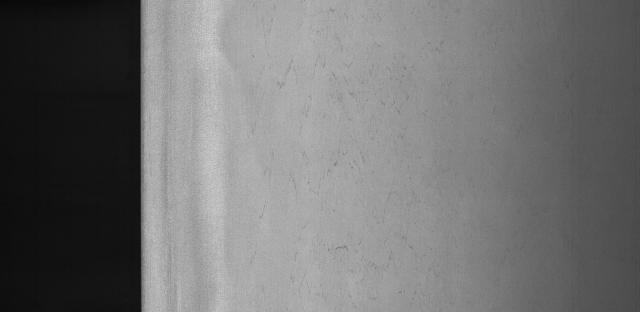silk_spot: (262, 31, 409, 198)
